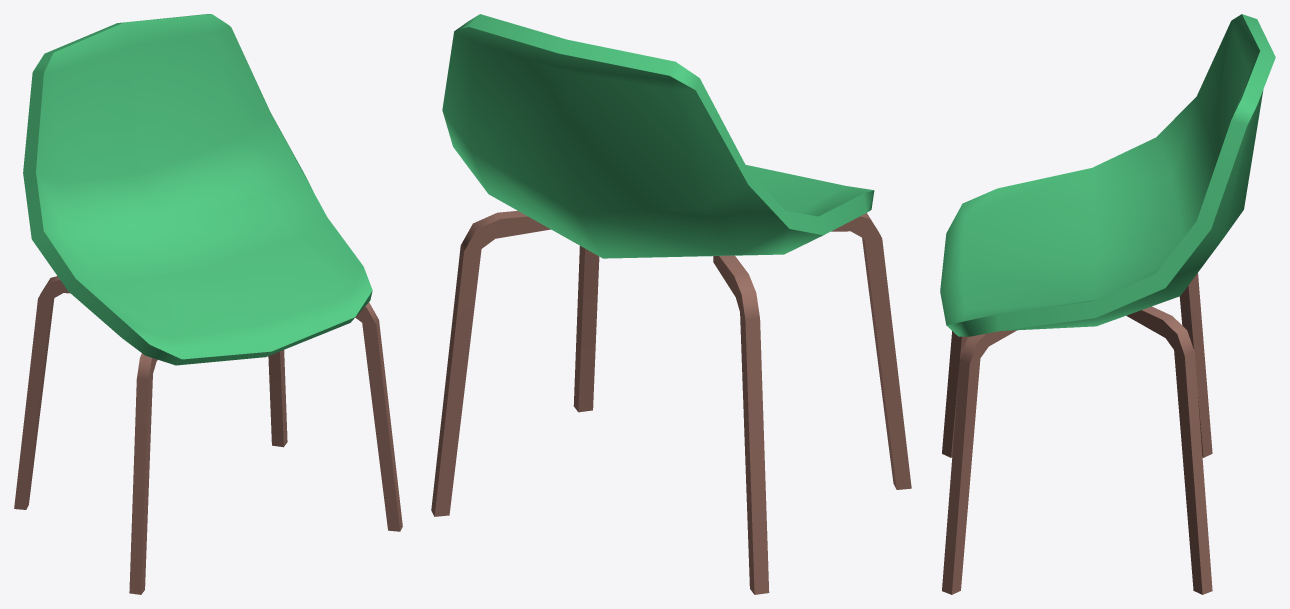
The model's file is kitchen_chair_024.glb.
3 views of the same model, side by side, from view 1: azimuth 30°, elevation 25°; view 2: azimuth 150°, elevation 25°; view 3: azimuth 270°, elevation 25° (orthographic). The views are drawn at different scales.
Parts seen in each view (by area): view 1: kitchen_chair_024; view 2: kitchen_chair_024; view 3: kitchen_chair_024.
Boxes of the visible parts, x1,y1,x2,y2 form: kitchen_chair_024: [14, 14, 402, 594]; kitchen_chair_024: [431, 14, 911, 594]; kitchen_chair_024: [940, 14, 1275, 594].
Size of the model in its own units: 0.5459 by 0.8273 by 0.5338.
1 material, 1 textured.
